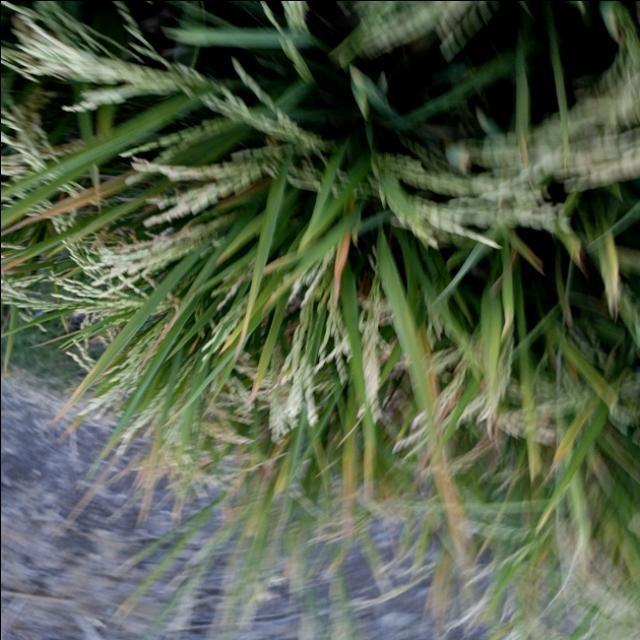Brown spot: (14, 163, 126, 240), (422, 420, 470, 552), (324, 219, 357, 314)
